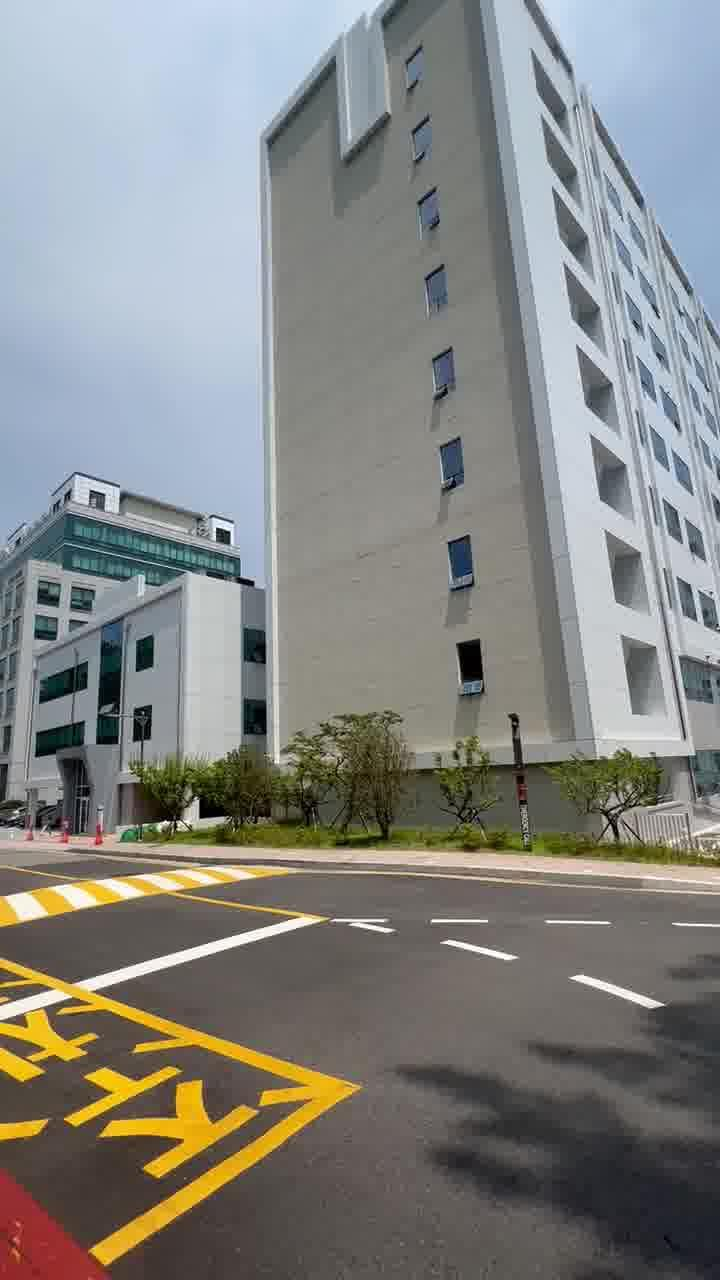building: (248, 12, 720, 750)
